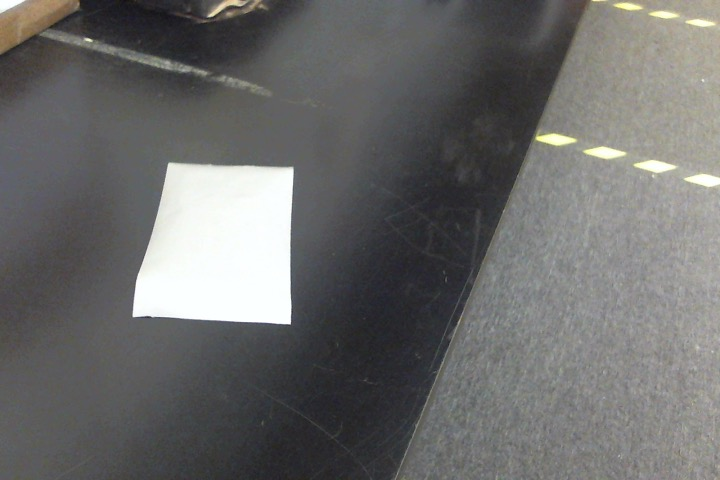Tape: (132, 162, 294, 326)
